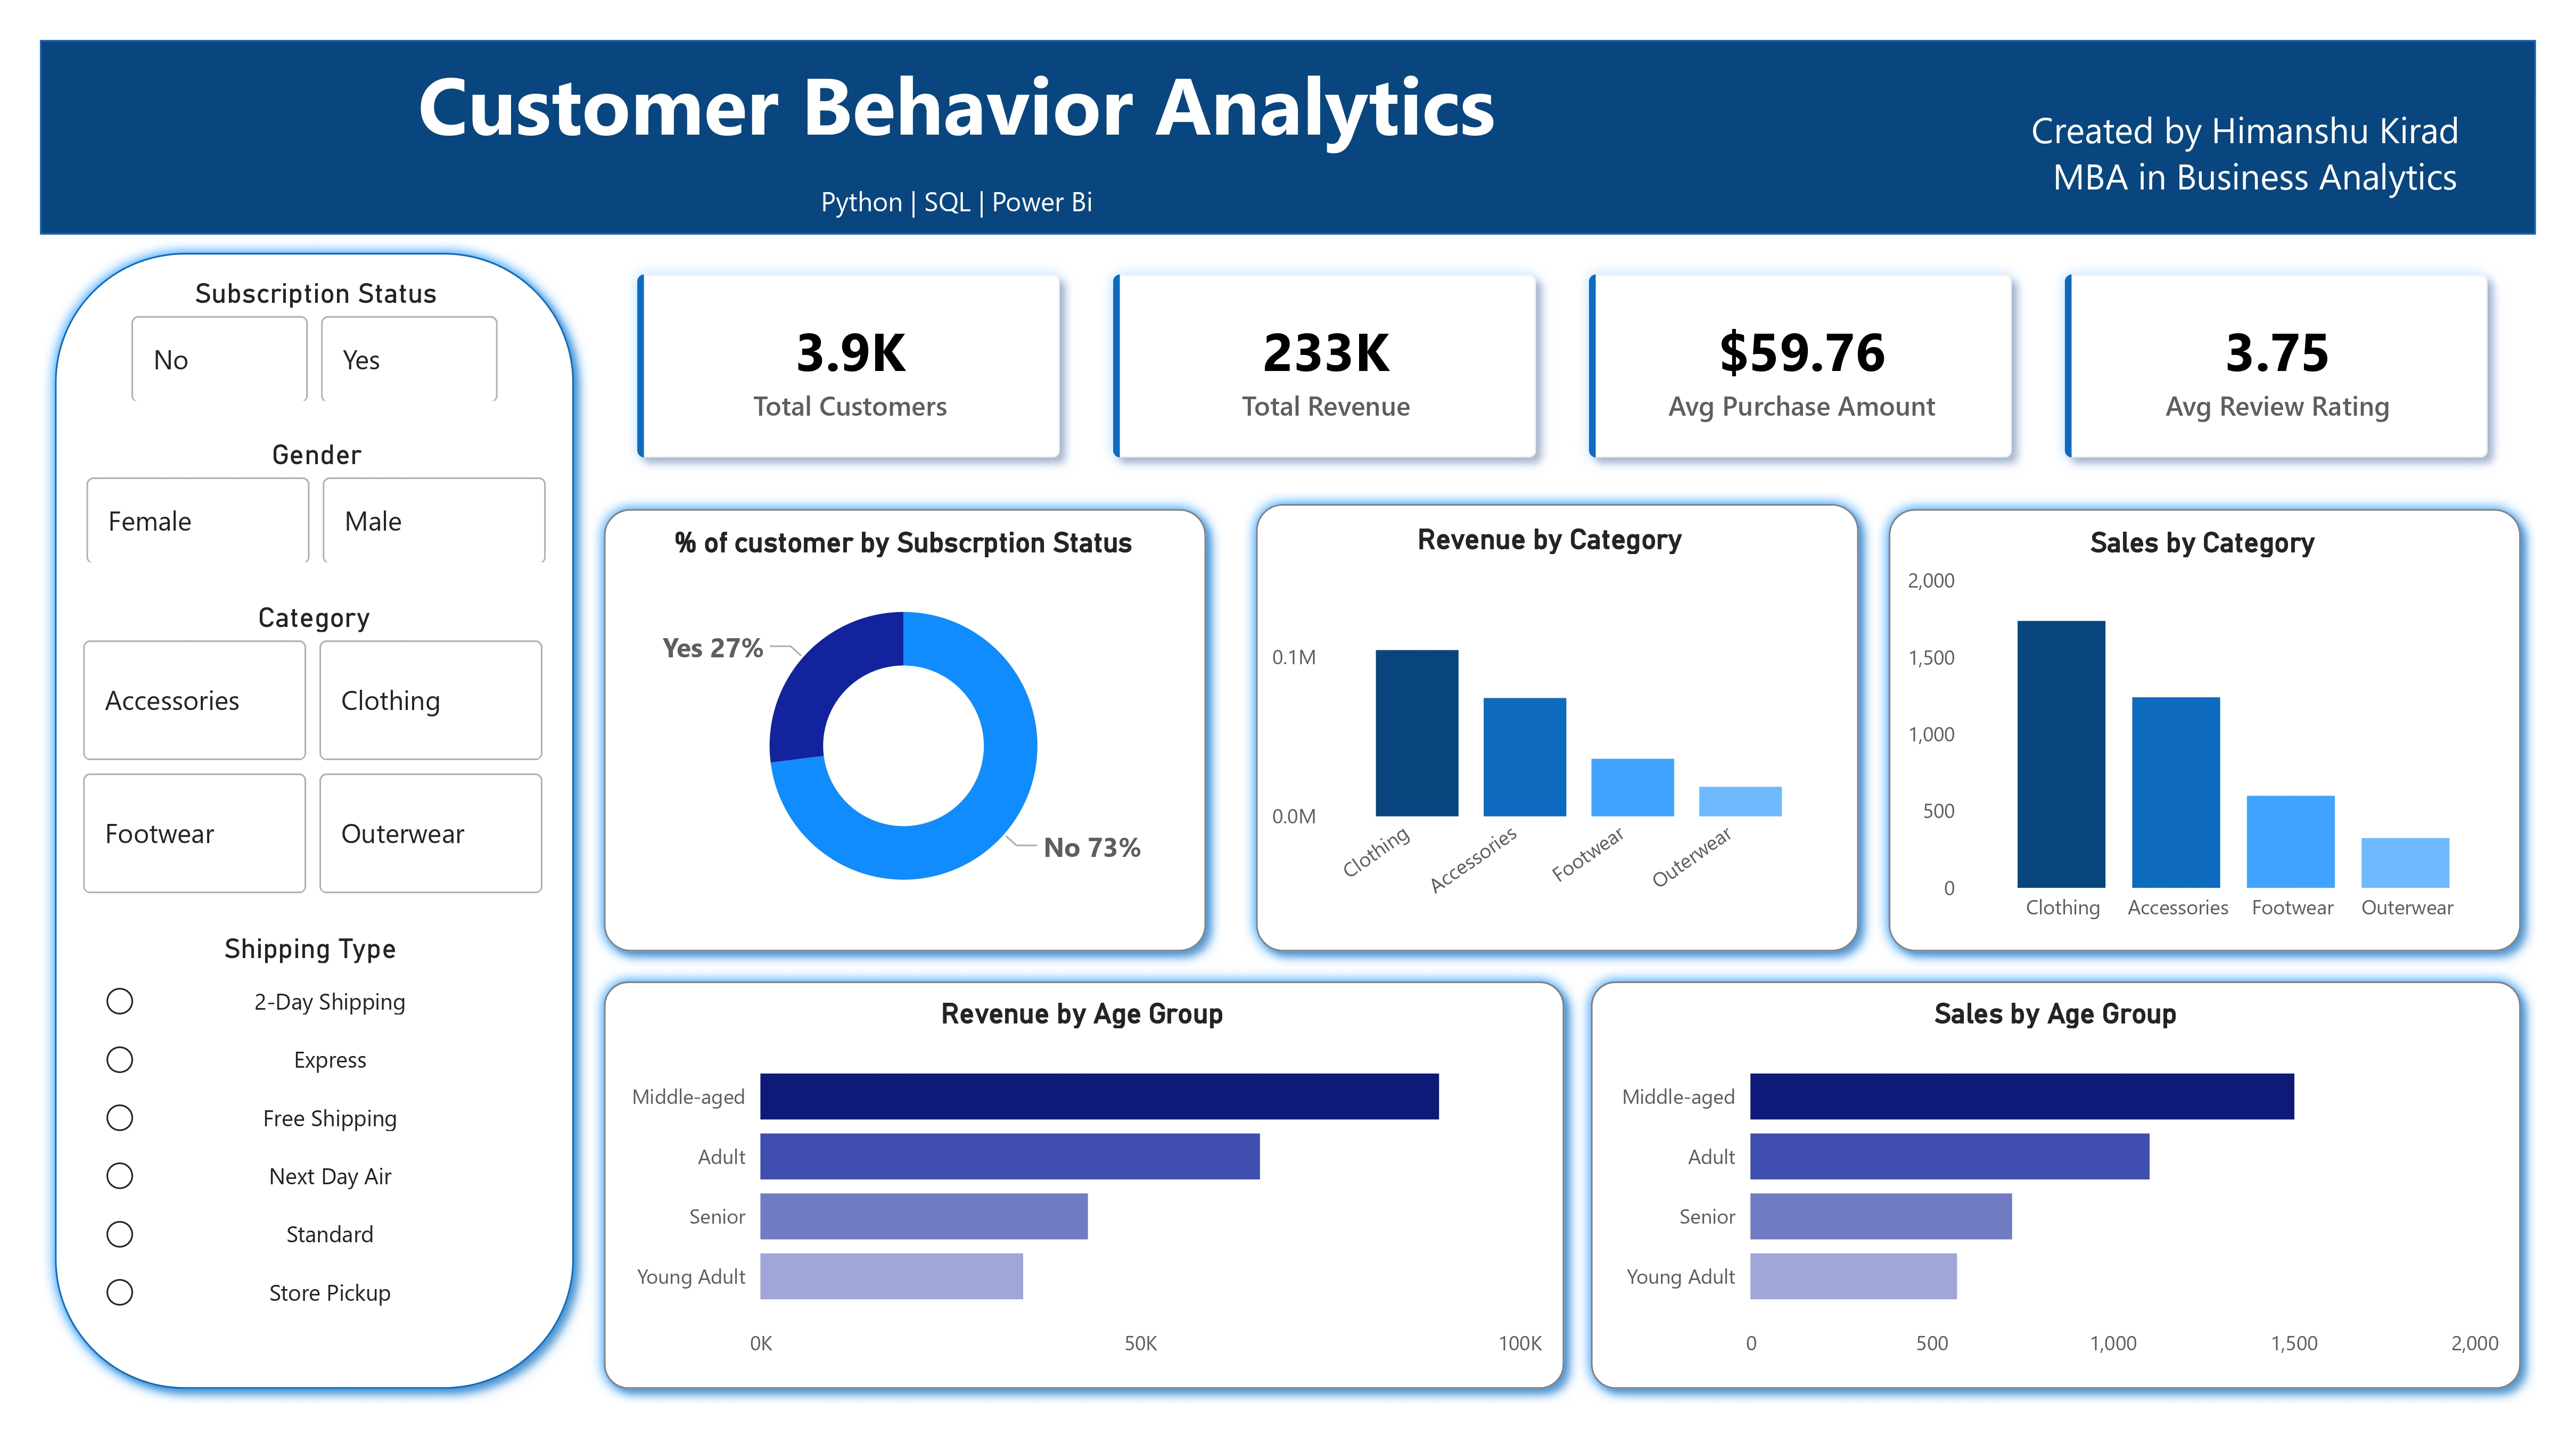

What the dashboard file says about the page in this screenshot:
{"tool":"powerbi","page":{"name":"Page 1","canvas":[1500,820],"ordinal":0},"visuals":[{"type":"cardVisual","fields":{"Data":["people_shopping.Number of customer","Sum(people_shopping.purchase_amount_(usd))","people_shopping.Average Purchase Amount","people_shopping.Average Review Rating"]},"box":[330,111.7,1170,168.3],"z":0},{"type":"shape","box":[0,0,1500.3,117.4],"z":1000},{"type":"shape","box":[1101.7,273.3,398.3,283.3],"z":2000},{"type":"shape","box":[330,273.3,380,283.3],"z":3000},{"type":"shape","box":[721.7,270,380,286.7],"z":4000},{"type":"donutChart","title":"% of customer by Subscrption Status","fields":{"Category":["people_shopping.subscription_status"],"Y":["CountNonNull(people_shopping.customer_id)"]},"box":[350,291.7,338.3,246.7],"z":5000},{"type":"clusteredColumnChart","title":"Revenue by Category","fields":{"Category":["people_shopping.category"],"Y":["Sum(people_shopping.purchase_amount_(usd))"]},"box":[735,290,345,246.7],"z":6000},{"type":"clusteredColumnChart","title":"Sales by Category","fields":{"Category":["people_shopping.category"],"Y":["CountNonNull(people_shopping.customer_id)"]},"box":[1116.7,291.7,366.7,248.3],"z":7000},{"type":"shape","box":[0,118.6,330,701.4],"z":8000},{"type":"advancedSlicerVisual","title":"Subscription Status","fields":{"Values":["people_shopping.subscription_status"]},"box":[50,141.7,231.7,81.7],"z":9000},{"type":"advancedSlicerVisual","title":"Gender","fields":{"Values":["people_shopping.gender"]},"box":[22.9,238.6,287.1,81.4],"z":10000},{"type":"advancedSlicerVisual","title":"Category","fields":{"Values":["people_shopping.category"]},"box":[21.4,337.1,287.1,182.9],"z":11000},{"type":"listSlicer","title":"Shipping Type","fields":{"Values":["people_shopping.shipping_type"]},"box":[34.3,535.7,257.1,244.3],"z":12000},{"type":"shape","box":[330,556.7,595,263.3],"z":13000},{"type":"shape","box":[923.3,556.7,576.7,263.3],"z":14000},{"type":"clusteredBarChart","title":"Revenue by Age Group","fields":{"Category":["people_shopping.age_group"],"Y":["Sum(people_shopping.purchase_amount_(usd))"]},"box":[345,575,563.3,226.7],"z":15000},{"type":"clusteredBarChart","title":"Sales by Age Group","fields":{"Category":["people_shopping.age_group"],"Y":["CountNonNull(people_shopping.customer_id)"]},"box":[940,575,543.3,226.7],"z":16000},{"type":"textbox","box":[0,0,1101.7,118.3],"z":17000},{"type":"textbox","box":[1116.7,16.7,383.3,95],"z":18000}]}

Visuals, with their boxes in screenshot pixels (x1, y1, x2, y2):
cardVisual - people_shopping.Number of customer x Sum(people_shopping.purchase_amount_(usd)): pyautogui.locateOnScreen(565, 222, 2547, 508)
shape: pyautogui.locateOnScreen(7, 34, 2548, 233)
shape: pyautogui.locateOnScreen(1873, 496, 2547, 976)
shape: pyautogui.locateOnScreen(565, 496, 1209, 976)
shape: pyautogui.locateOnScreen(1229, 491, 1873, 976)
"% of customer by Subscrption Status" donutChart: pyautogui.locateOnScreen(599, 527, 1172, 945)
"Revenue by Category" clusteredColumnChart: pyautogui.locateOnScreen(1252, 525, 1836, 942)
"Sales by Category" clusteredColumnChart: pyautogui.locateOnScreen(1898, 527, 2519, 948)
shape: pyautogui.locateOnScreen(7, 234, 565, 1422)
"Subscription Status" advancedSlicerVisual: pyautogui.locateOnScreen(92, 274, 484, 412)
"Gender" advancedSlicerVisual: pyautogui.locateOnScreen(45, 438, 532, 575)
"Category" advancedSlicerVisual: pyautogui.locateOnScreen(43, 604, 529, 914)
"Shipping Type" listSlicer: pyautogui.locateOnScreen(65, 940, 500, 1355)
shape: pyautogui.locateOnScreen(565, 976, 1573, 1422)
shape: pyautogui.locateOnScreen(1570, 976, 2547, 1422)
"Revenue by Age Group" clusteredBarChart: pyautogui.locateOnScreen(591, 1007, 1545, 1391)
"Sales by Age Group" clusteredBarChart: pyautogui.locateOnScreen(1599, 1007, 2519, 1391)
textbox: pyautogui.locateOnScreen(7, 34, 1873, 234)
textbox: pyautogui.locateOnScreen(1898, 62, 2547, 222)
